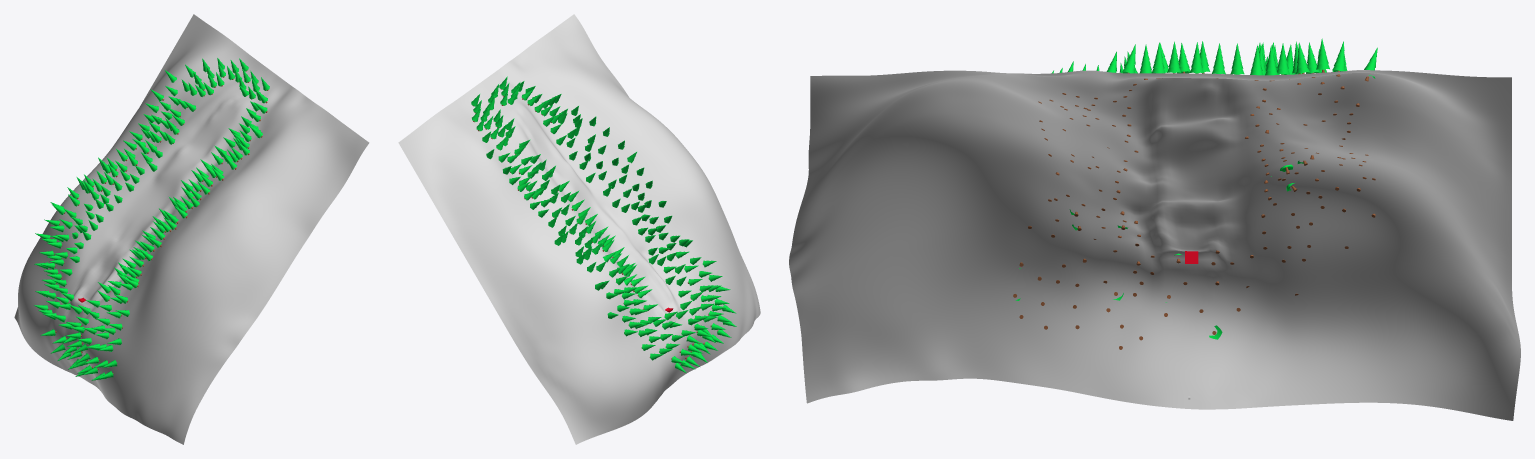
The model's file is Terrainwithnewtrees.fbx.
3 views of the same model, side by side, from view 1: azimuth 30°, elevation 25°; view 2: azimuth 150°, elevation 25°; view 3: azimuth 270°, elevation 25° (orthographic). The views are drawn at different scales.
Parts seen in each view (by area): view 1: Landscape.002; view 2: Landscape.002; view 3: Landscape.002.
Boxes of the visible parts, left/top/right/bottom form: Landscape.002: left=14, top=14, right=369, bottom=444; Landscape.002: left=398, top=14, right=760, bottom=444; Landscape.002: left=789, top=70, right=1520, bottom=420.
Size of the model in its own units: 11966 by 13843 by 17197.
